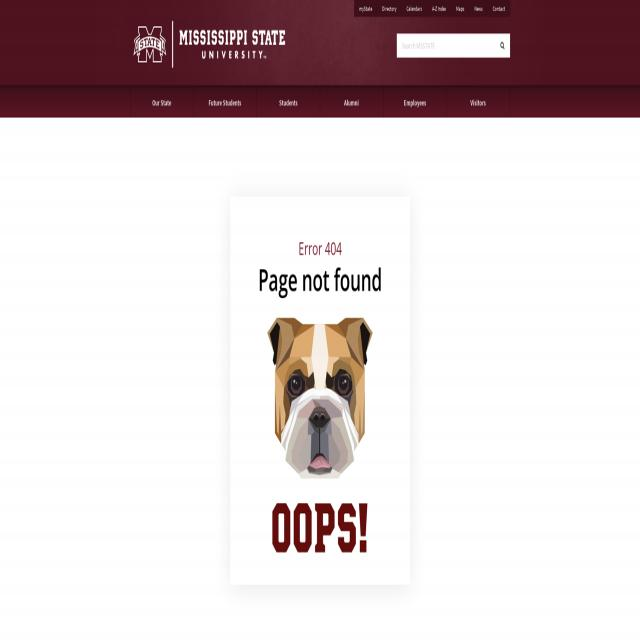button: (254, 307, 384, 567), (130, 16, 288, 70), (130, 88, 194, 117), (193, 88, 257, 117), (256, 88, 320, 117), (320, 88, 384, 117), (384, 88, 447, 117), (447, 88, 510, 117), (401, 0, 427, 17), (377, 0, 401, 17), (427, 0, 451, 17), (354, 0, 377, 17), (495, 33, 510, 58), (488, 0, 510, 17), (469, 0, 488, 17), (451, 0, 469, 17)
field: (397, 33, 495, 58)
